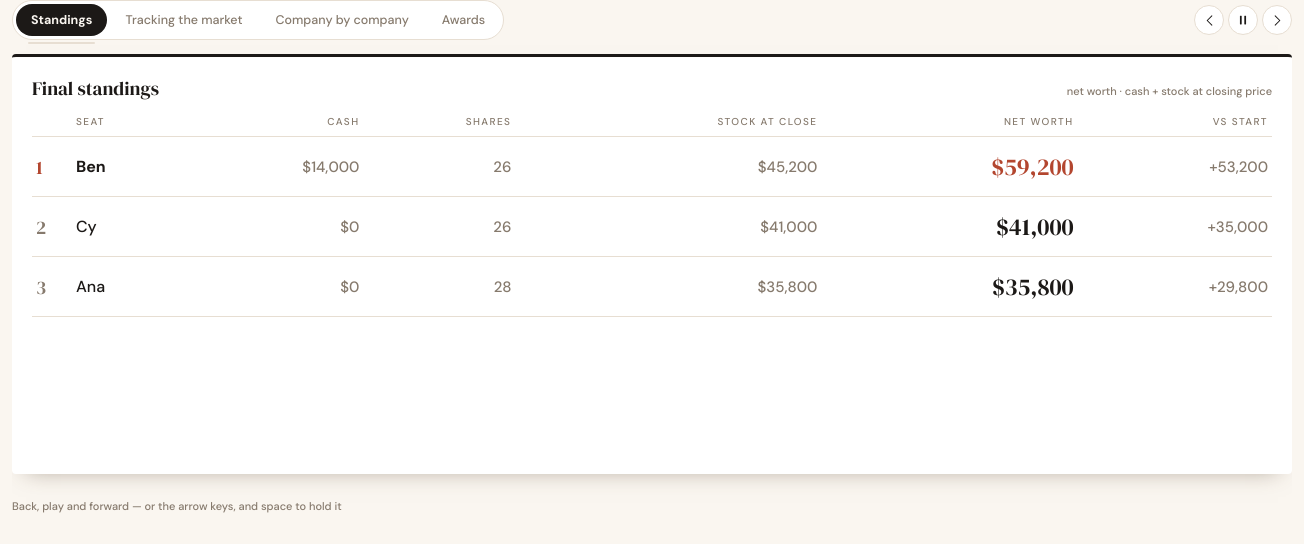
the after-game carousel › shows the awards five at a time and pages through them
Click the tab "Awards": (464, 20) [427,4,500,36]
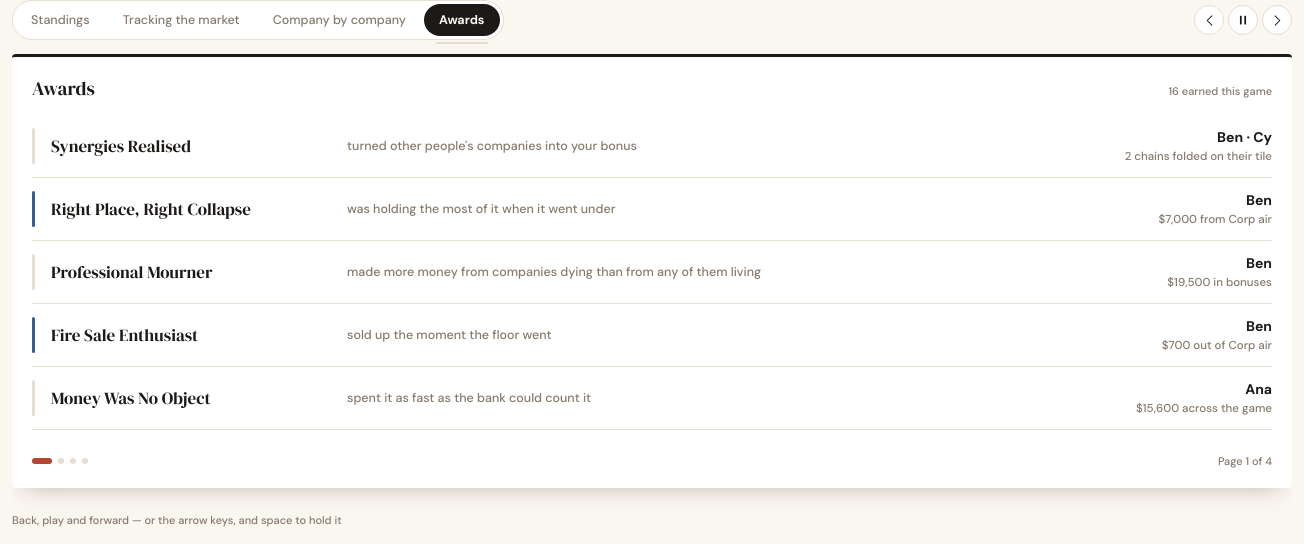
Expected: the text "Page 1 of 4" is shown, [1218,454,1272,468]
Click the button named "Forward": (1277, 20) [1262,5,1292,35]
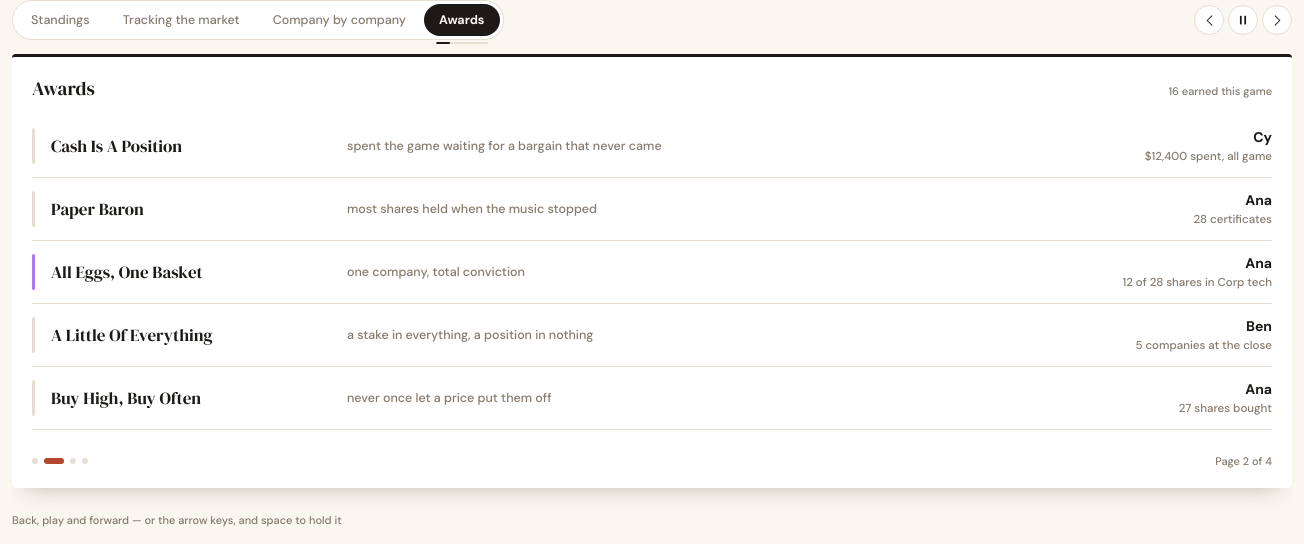
Expected: the text "Page 2 of 4" is shown, [1215,454,1272,468]
